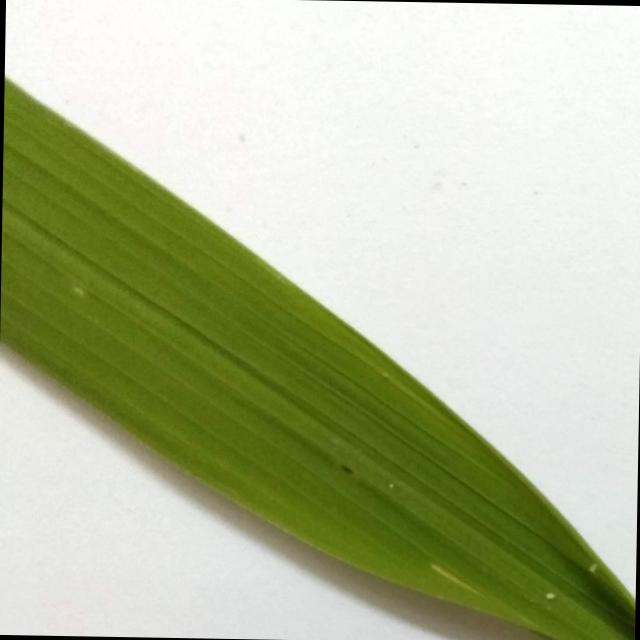Rice_Healthy: (0, 80, 635, 640)
